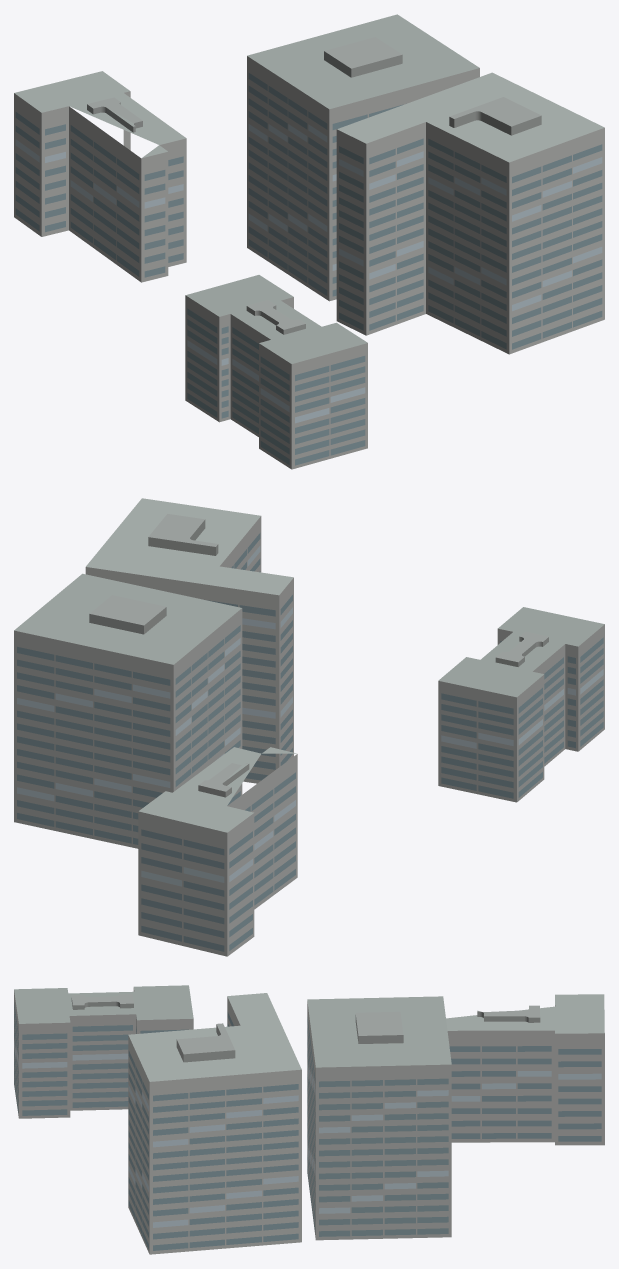
File: apt-a10024145.glb
The picture shows the model from 3 angles, top to bottom: view 1: azimuth 30°, elevation 25°; view 2: azimuth 150°, elevation 25°; view 3: azimuth 270°, elevation 25°; orthographic projection. The views are drawn at different scales.
Parts seen in each view (by area): view 1: apt-a10024145; view 2: apt-a10024145; view 3: apt-a10024145.
Boxes of the visible parts, left/top/right/bottom form: apt-a10024145: left=14, top=14, right=604, bottom=469; apt-a10024145: left=14, top=498, right=604, bottom=956; apt-a10024145: left=14, top=985, right=604, bottom=1254.
Bounding box in the file's own units: 106 × 51 × 151.
